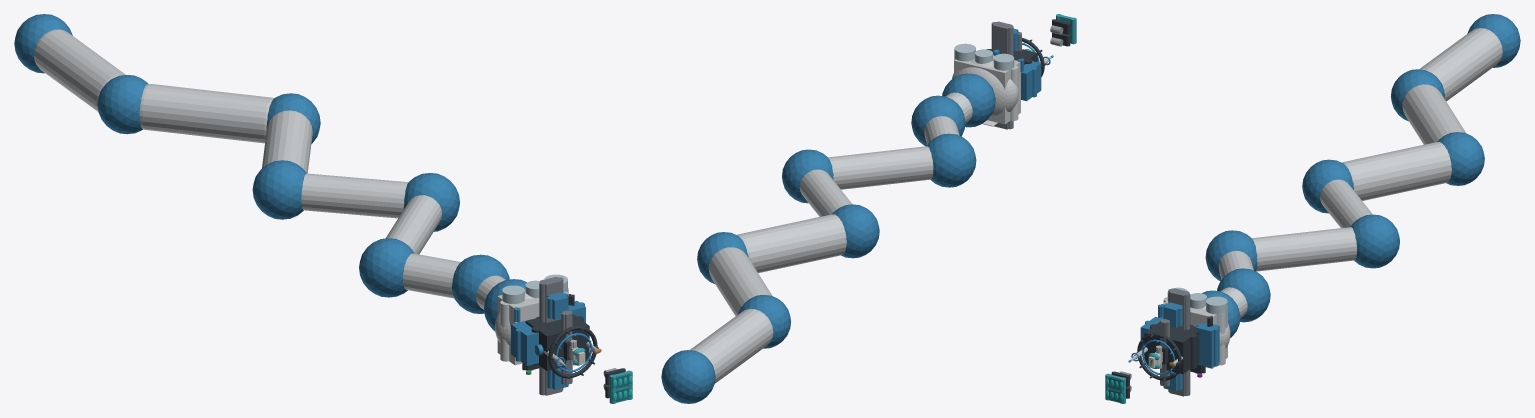
Rendered from dranmar_franka_safeplane_assembly.glb.
3 renders of one model, left to right at view 1: azimuth 30°, elevation 25°; view 2: azimuth 150°, elevation 25°; view 3: azimuth 330°, elevation 25°, orthographic. The views are drawn at different scales.
Visible parts, largest first — view 1: ArmLink_01, ArmLink_03, ArmLink_00, ArmJoint_03, ArmJoint_05, ArmLink_02, ArmJoint_01, ArmLink_04, ArmLink_05, ArmJoint_06, ArmJoint_04, ArmJoint_00 (+7 smaller); view 2: ArmLink_02, ArmLink_04, ArmLink_00, ArmLink_01, ArmJoint_00, ArmJoint_05, ArmJoint_03, ArmJoint_07, ArmLink_03, ArmJoint_04, ArmJoint_06, ArmJoint_01 (+6 smaller); view 3: ArmLink_02, ArmLink_04, ArmLink_00, ArmLink_01, ArmJoint_04, ArmJoint_02, ArmJoint_06, ArmLink_03, Mount_InstrumentTower, ArmJoint_03, ArmJoint_05, ArmJoint_00 (+9 smaller).
Part boxes in pixels (x1,y1,x2,y2): ArmLink_01: [139, 84, 274, 143]; ArmLink_03: [301, 173, 408, 218]; ArmLink_00: [34, 29, 125, 111]; ArmJoint_03: [252, 160, 306, 219]; ArmJoint_05: [359, 238, 414, 297]; ArmLink_02: [262, 110, 312, 173]; ArmJoint_01: [97, 75, 148, 134]; ArmLink_04: [385, 195, 441, 254]; ArmLink_05: [403, 253, 460, 298]; ArmJoint_06: [451, 254, 509, 313]; ArmJoint_04: [403, 173, 459, 231]; ArmJoint_00: [14, 14, 72, 73]; ArmLink_02: [737, 214, 846, 272]; ArmLink_04: [828, 146, 933, 189]; ArmLink_00: [690, 308, 773, 383]; ArmLink_01: [708, 247, 772, 315]; ArmJoint_00: [661, 350, 715, 403]; ArmJoint_05: [927, 133, 976, 187]; ArmJoint_03: [832, 204, 879, 258]; ArmJoint_07: [942, 73, 995, 127]; ArmLink_03: [799, 169, 852, 216]; ArmJoint_04: [782, 149, 833, 203]; ArmJoint_06: [911, 95, 965, 146]; ArmJoint_01: [738, 294, 790, 348]; ArmLink_02: [1342, 142, 1451, 200]; ArmLink_04: [1252, 227, 1357, 271]; ArmLink_00: [1419, 28, 1502, 101]; ArmLink_01: [1402, 84, 1466, 144]; ArmJoint_04: [1350, 214, 1399, 268]; ArmJoint_02: [1437, 132, 1484, 185]; ArmJoint_06: [1217, 268, 1270, 322]; ArmLink_03: [1320, 179, 1372, 227]; Mount_InstrumentTower: [1144, 319, 1199, 374]; ArmJoint_03: [1302, 159, 1353, 213]; ArmJoint_05: [1205, 230, 1257, 281]; ArmJoint_00: [1467, 14, 1520, 67].
Size of the model in its own units: 0.31 by 0.184 by 1.54.
